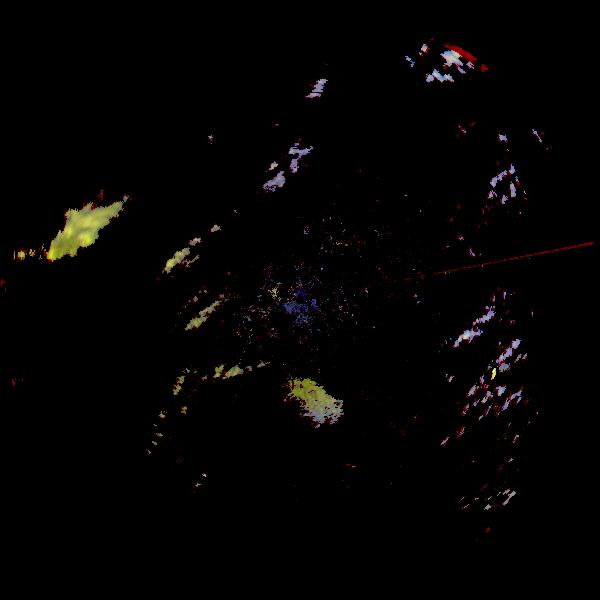roost: (271, 375, 331, 435), (288, 387, 345, 444)
